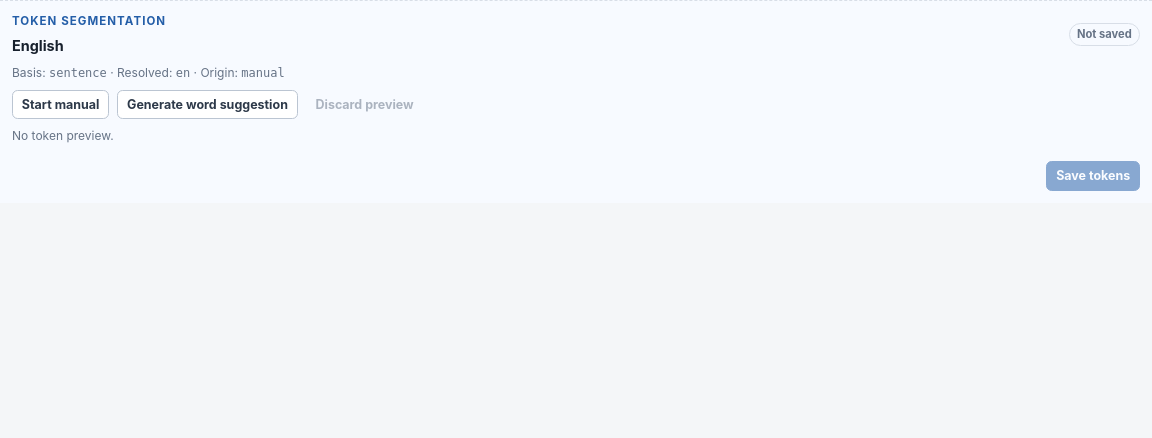
Scenario: TokenSegmentationPanel › renders the stable stale-basis error returned by the API
Click the button "Start manual" at (61, 105), box [12,90,109,119]
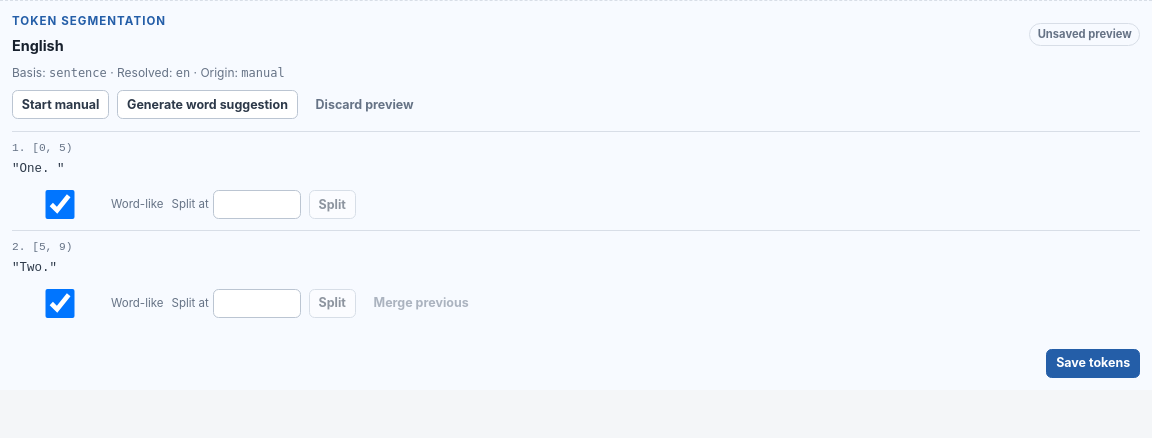
Click the button "Save tokens" at (1093, 364), box [1046,349,1140,378]
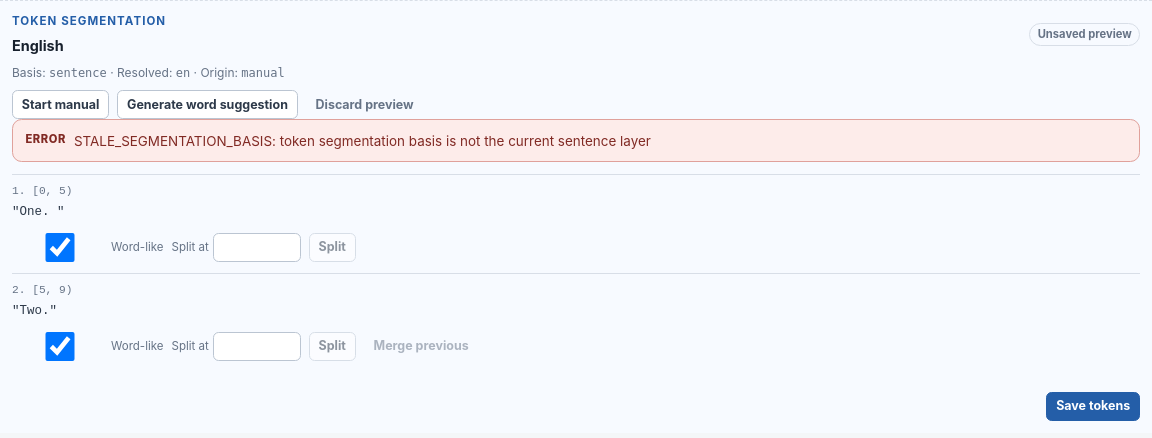
Result: the message shows "token segmentation basis is not the current sentence layer" at [74,133,651,149]
